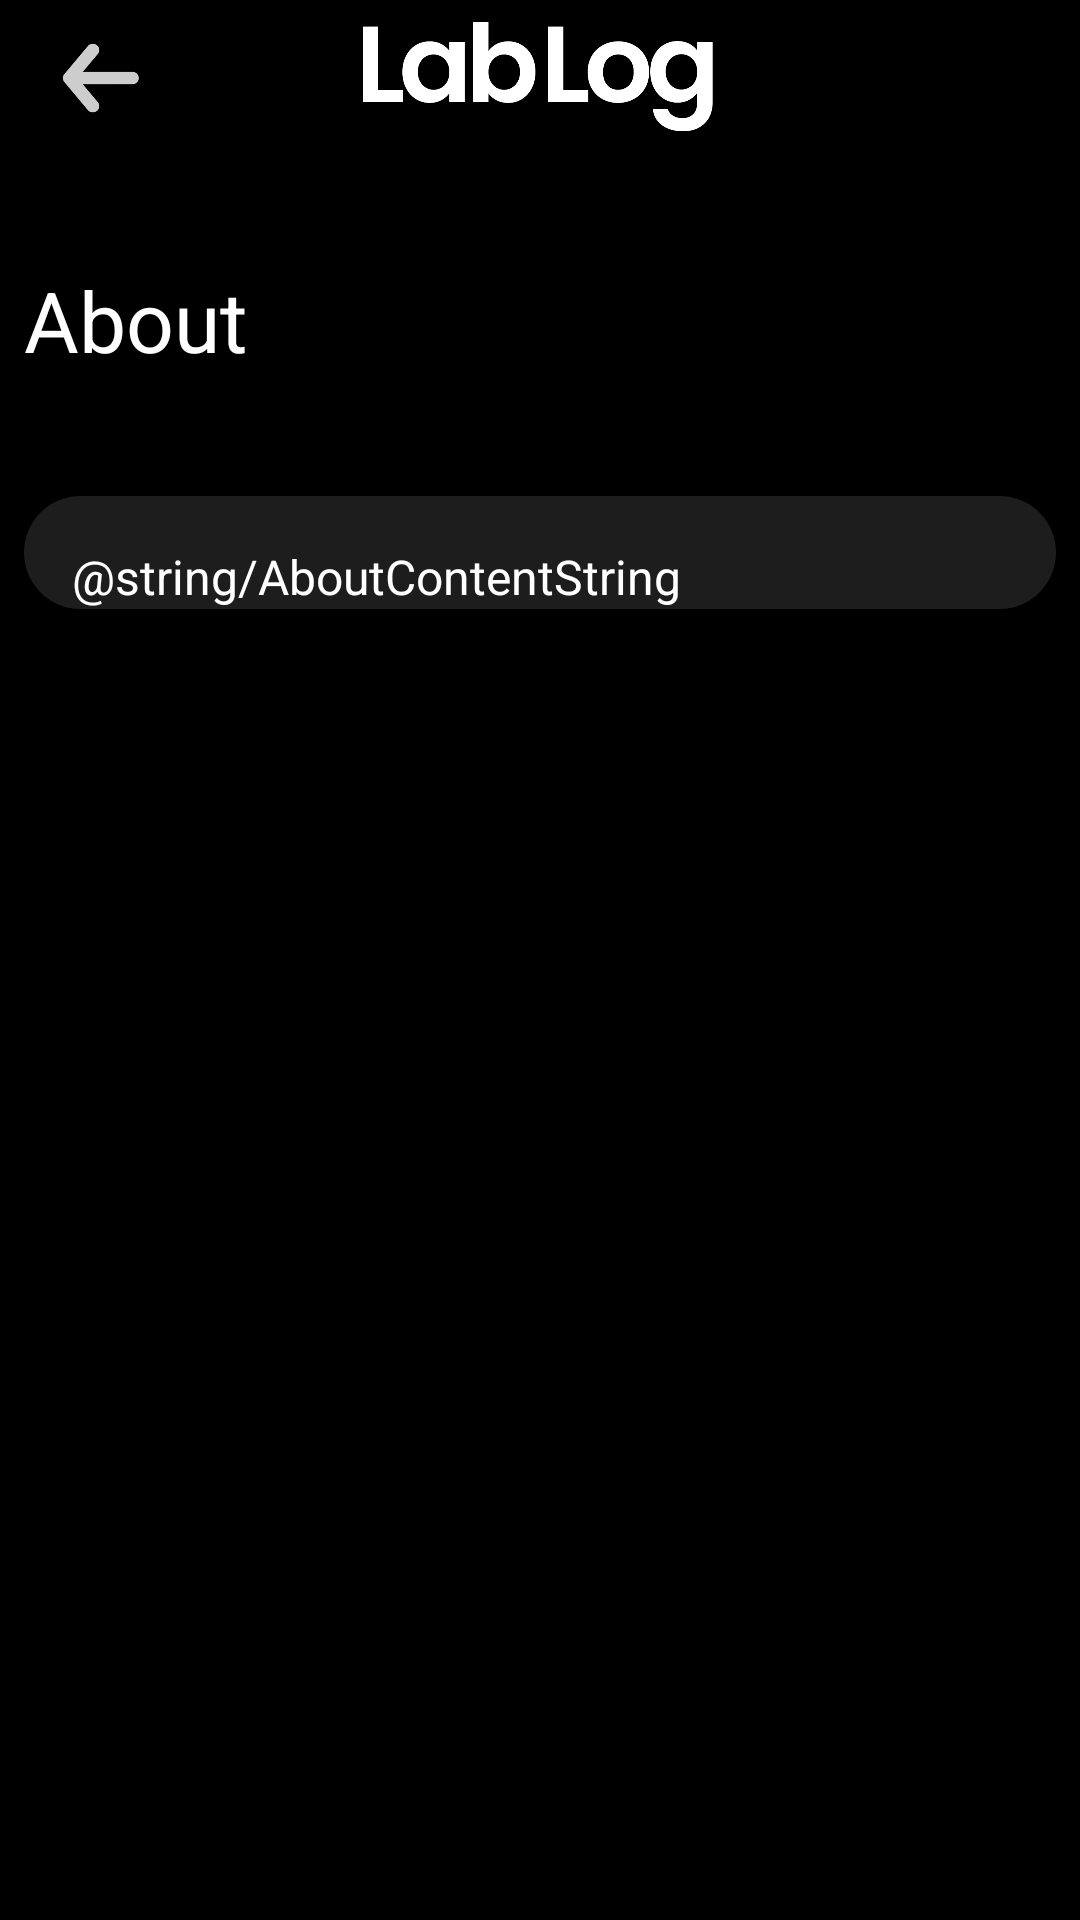

Locate icon controls on the screen. Image size 1080px x 1920px, boxes as (x1,y1,x2,y2).
back icon: (63,44,139,113)
